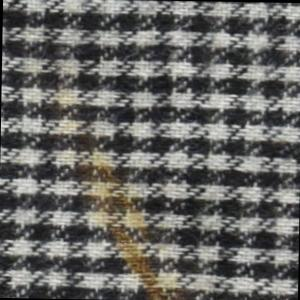Oil Stain: (14, 62, 202, 300)
